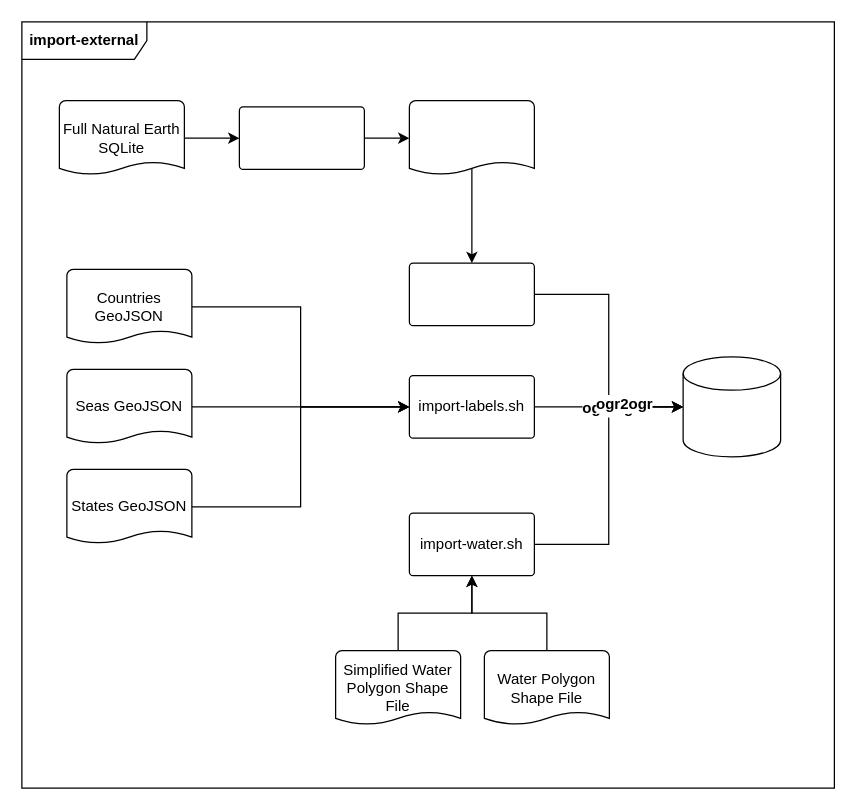
This 856x810 diagram has some shape labels left out. Each missing label, with the box of its shape:
clean-natural-earth.sh: (238, 106, 364, 169)
import-natural-earth.sh: (408, 262, 534, 326)
PostGIS: (682, 356, 781, 457)
Trimmed Natural Earth SQLite: (408, 99, 534, 176)
